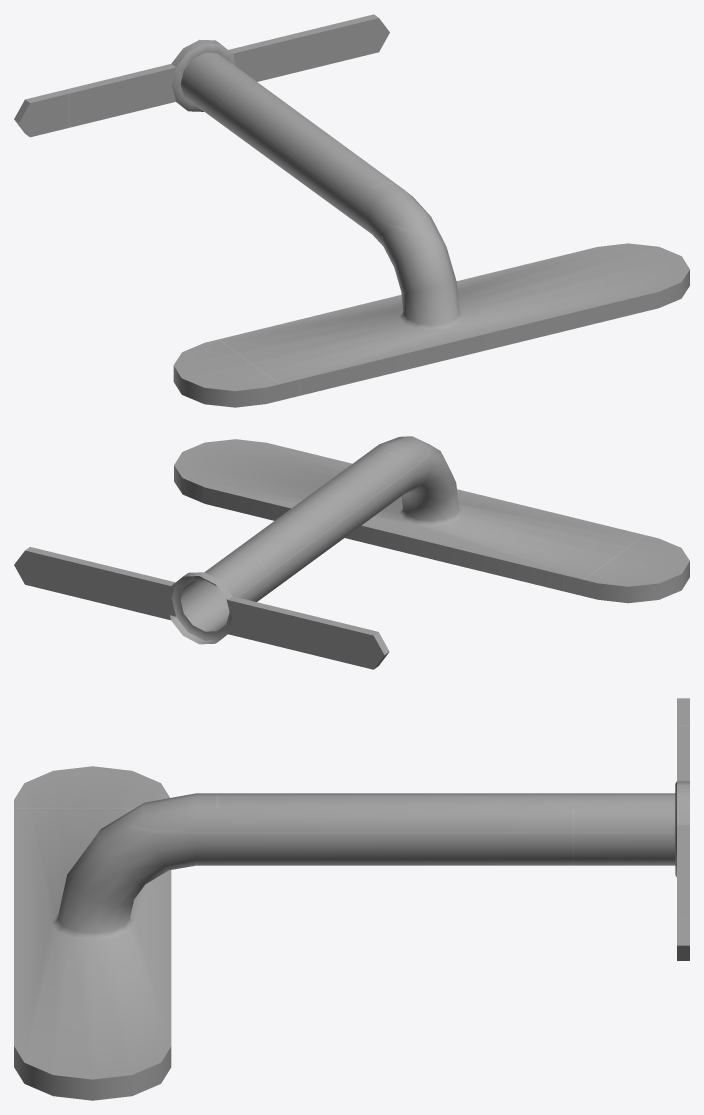
File: MeshTelevisionStand_20_1_GeomSubset_1.obj
3 renders of one model, top to bottom at view 1: azimuth 30°, elevation 25°; view 2: azimuth 150°, elevation 25°; view 3: azimuth 270°, elevation 25°, orthographic. The views are drawn at different scales.
Parts seen in each view (by area): view 1: MeshTelevisionStand_20_1_GeomSubset_1; view 2: MeshTelevisionStand_20_1_GeomSubset_1; view 3: MeshTelevisionStand_20_1_GeomSubset_1.
Boxes of the visible parts, x1,y1,x2,y2 form: MeshTelevisionStand_20_1_GeomSubset_1: (14,14,689,407); MeshTelevisionStand_20_1_GeomSubset_1: (14,436,689,669); MeshTelevisionStand_20_1_GeomSubset_1: (14,698,689,1100).
Bounding box in the file's own units: 0.5535 × 0.1307 × 0.5047.
